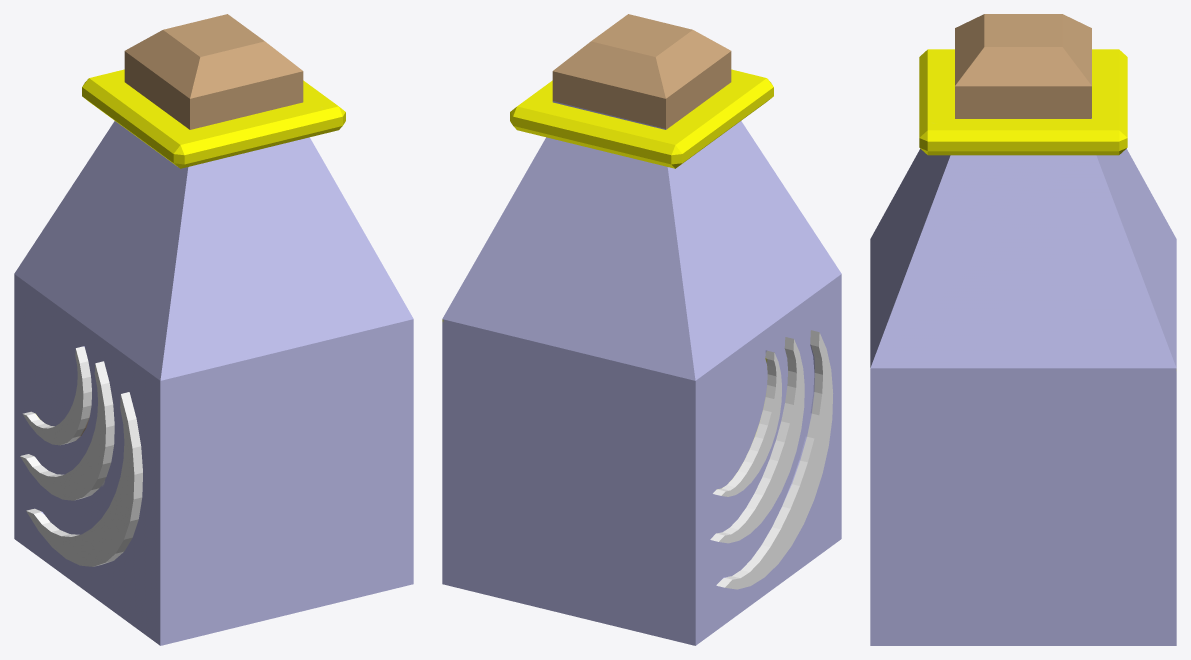
Rendered from pushpotion.gltf.
The picture shows the model from 3 angles, left to right: view 1: azimuth 30°, elevation 25°; view 2: azimuth 150°, elevation 25°; view 3: azimuth 270°, elevation 25°; orthographic projection. The views are drawn at different scales.
Visible parts, largest first — view 1: Cube; view 2: Cube; view 3: Cube.
Boxes of the visible parts, x1=… form: Cube: x1=14, y1=14, x2=413, y2=645; Cube: x1=442, y1=14, x2=841, y2=645; Cube: x1=870, y1=14, x2=1176, y2=645.
Size of the model in its own units: 0.9907 by 1.9 by 0.9577.
Materials: 1 (1 with a texture image).
